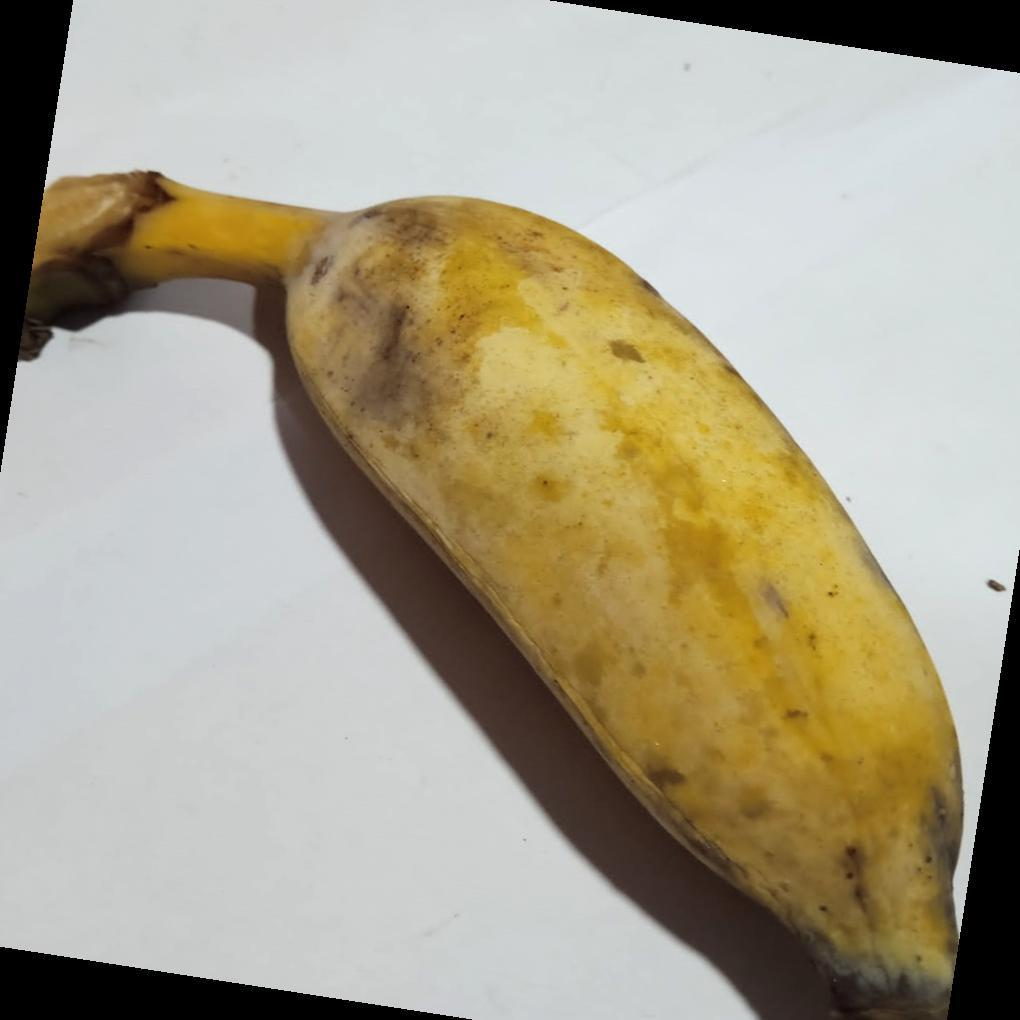Banana Ripe: (171, 160, 979, 1020)
